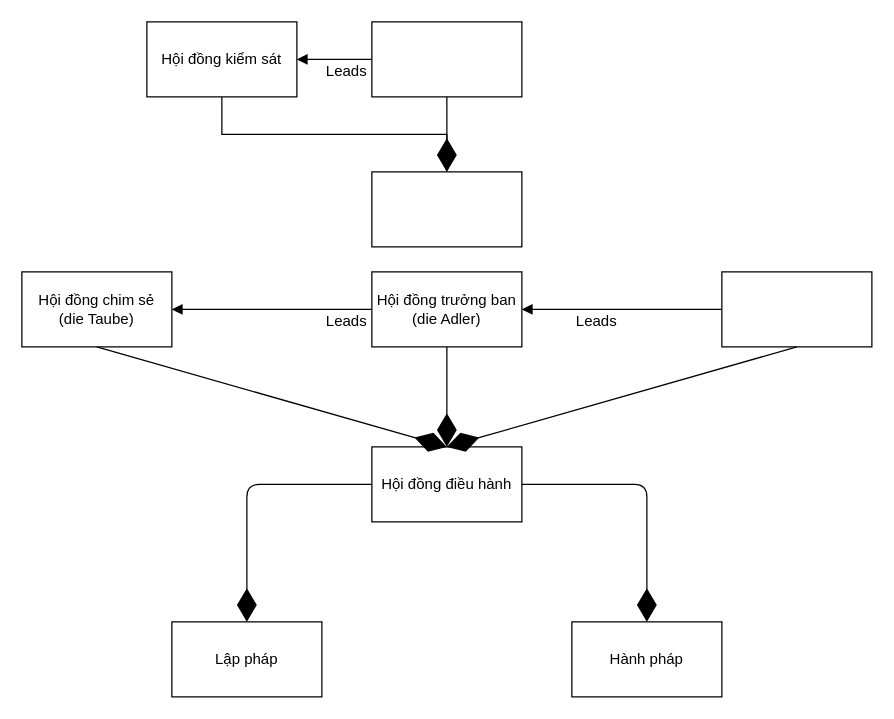
The diagram is 894 pixels wide and 719 high, and some of its shapes have lost their labels. The centre of each missing label's shape, as x and y in pixels:
"Chủ tịch CLB" belongs at [446,59].
"Phó chủ tịch CLB ( Reichskanzlei )" belongs at [796,309].
"Tư pháp" belongs at [446,209].
